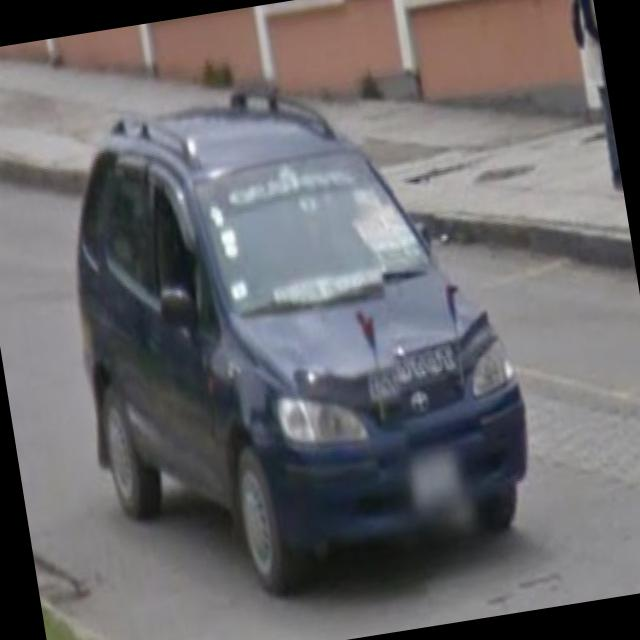car: (47, 78, 542, 637)
